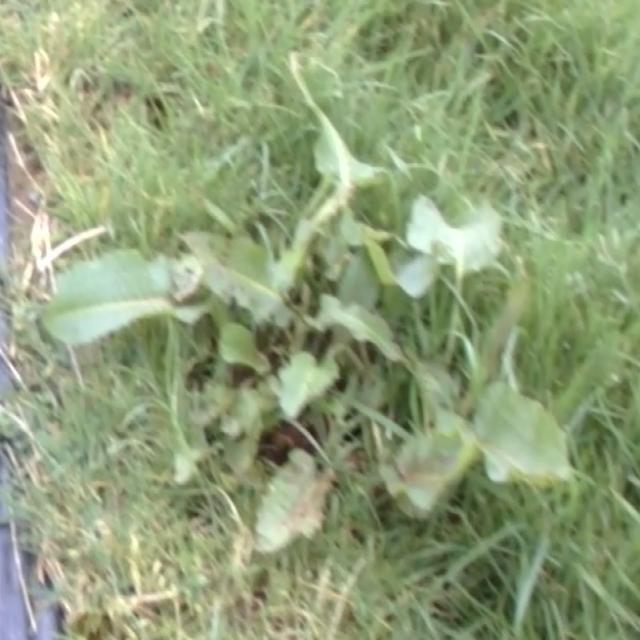organic waste: (28, 127, 593, 536), (272, 177, 624, 539), (2, 146, 410, 439)
